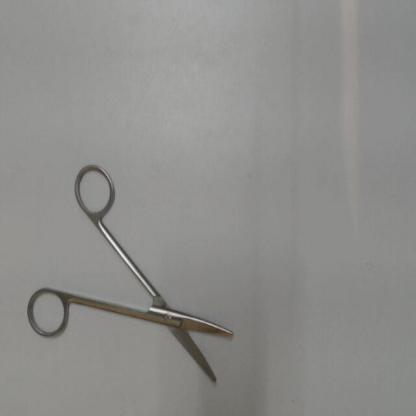Curved Mayo Scissors: (22, 156, 244, 392)
